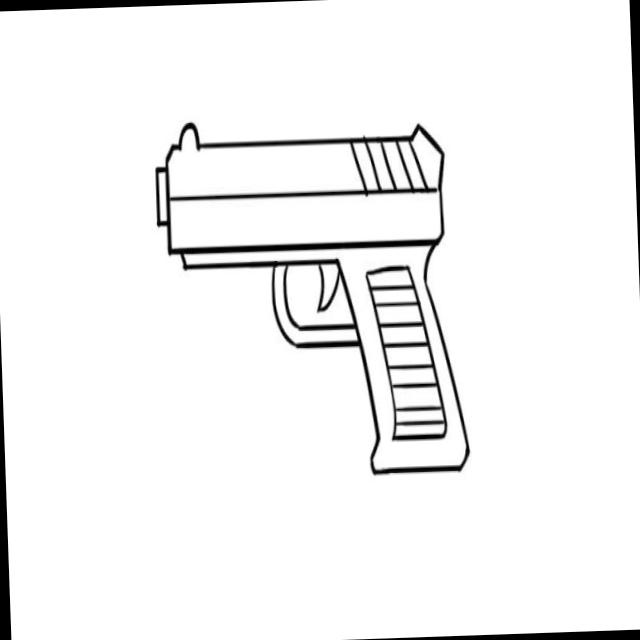gun: (152, 111, 470, 482)
